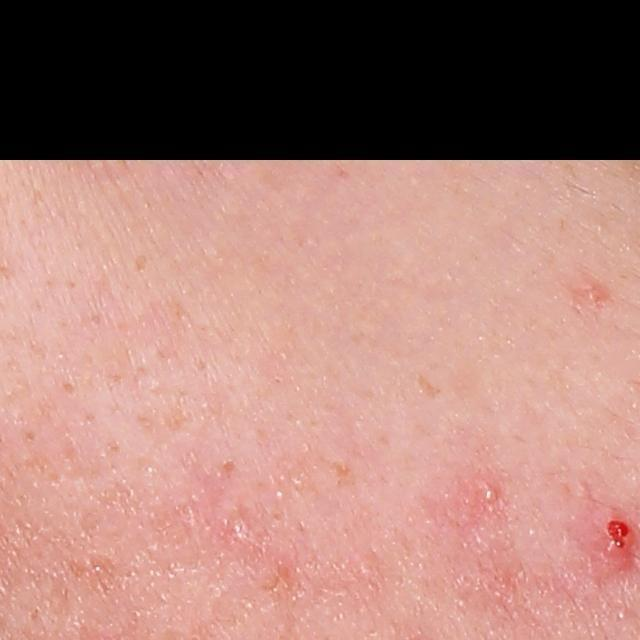melasma: (415, 368, 446, 401)
pustule: (471, 480, 498, 511)
